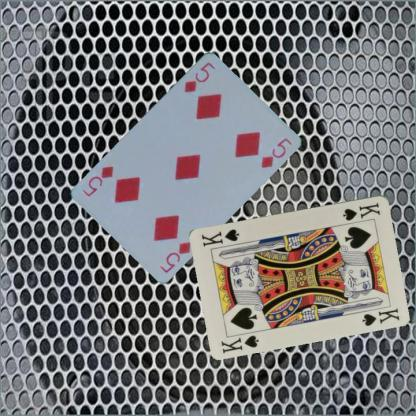5d: (156, 238, 192, 274), (182, 59, 216, 94)
Ks: (340, 199, 382, 222), (219, 332, 261, 354)
